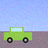vehicle: (4, 27, 32, 43)
